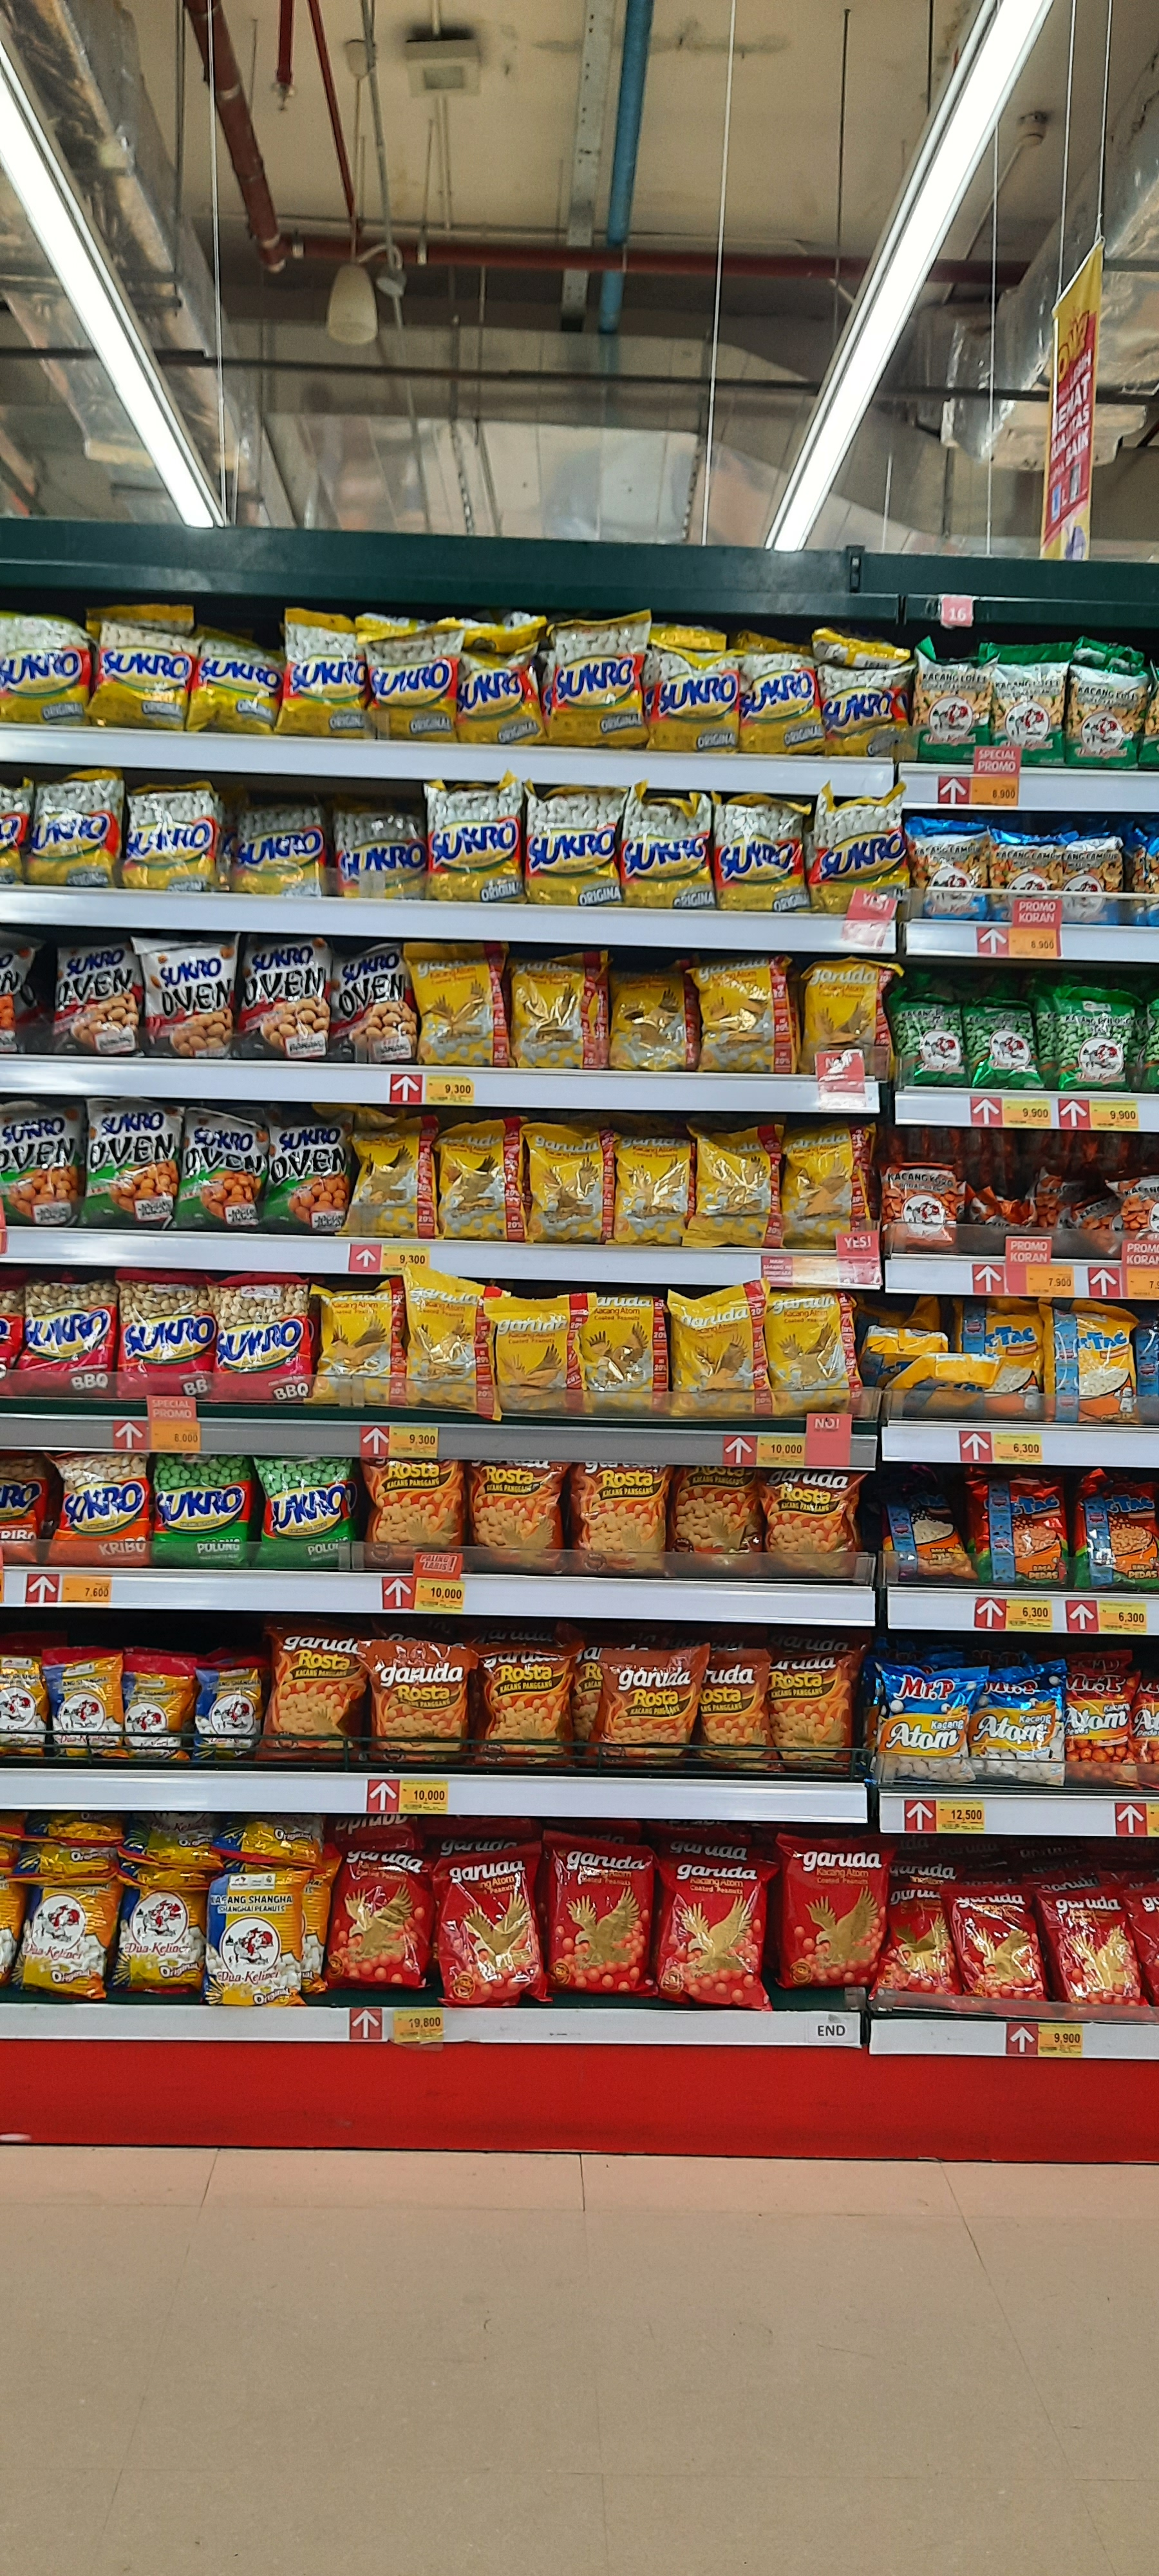90101111202100: (402, 1281, 506, 1416), (484, 1293, 594, 1416), (663, 1286, 765, 1416), (409, 943, 507, 1069), (781, 1124, 873, 1253), (696, 958, 798, 1074), (511, 950, 609, 1069), (312, 1281, 405, 1405), (768, 1293, 862, 1413), (346, 1117, 438, 1239), (529, 1122, 616, 1242), (438, 1122, 527, 1239), (581, 1296, 667, 1416), (612, 1135, 693, 1245)
90101111301100: (657, 1856, 773, 2009), (776, 1835, 891, 1988), (437, 1845, 540, 2008), (550, 1843, 657, 1998), (323, 1851, 435, 1989)
90101111302100: (952, 1888, 1041, 2012), (1051, 1891, 1138, 2017)
90101111615100: (261, 1626, 371, 1764), (471, 1644, 579, 1769), (369, 1641, 471, 1763), (470, 1460, 568, 1574), (573, 1462, 667, 1572), (768, 1470, 860, 1580), (773, 1646, 859, 1764), (366, 1459, 463, 1556)
DuaKelinciKacangCampur: (905, 820, 988, 922)
DuaKelinciKacangKoroPedas: (882, 1160, 959, 1253)
DuaKelinciKacangLofet: (914, 652, 993, 761), (1069, 665, 1146, 769)
DuaKelinciKacangPolongOriginalFlavor: (1054, 992, 1134, 1092), (890, 999, 965, 1086), (965, 1004, 1039, 1088)
DuaKelinciKacangShanghaiOriginal: (44, 1651, 123, 1756)
DuaKelinciKacangShanghaiOriginal225g: (208, 1873, 305, 2006), (11, 1883, 118, 2001), (108, 1888, 207, 1998)
DuaKelinciKacangSukroOriginal: (550, 611, 650, 749), (525, 785, 625, 910), (425, 780, 522, 904), (277, 614, 369, 739), (813, 793, 906, 915), (619, 789, 711, 909), (92, 621, 192, 731), (364, 628, 463, 739), (714, 798, 809, 912), (28, 777, 123, 889), (0, 613, 90, 724), (125, 782, 215, 892), (648, 651, 740, 751), (332, 802, 427, 897), (818, 665, 913, 757), (236, 805, 323, 895), (740, 654, 818, 752)
DuaKelinciSukroBBQ: (210, 1275, 310, 1405), (113, 1270, 215, 1396), (21, 1283, 120, 1398)
DuaKelinciSukroKribo: (53, 1452, 149, 1571)
DuaKelinciSukroOvenRasaBawang: (146, 941, 238, 1060), (241, 940, 330, 1061), (328, 945, 415, 1066), (57, 946, 140, 1056)
DuaKelinciSukroOvenRasaJagungBakar: (84, 1099, 182, 1232), (182, 1115, 269, 1232), (0, 1104, 80, 1226), (268, 1122, 350, 1234)
DuaKelinciSukroPolong: (156, 1452, 250, 1569), (258, 1457, 351, 1569)
DuaKelinciTicTacOriginal: (1038, 1299, 1139, 1424)
DuaKelinciTicTacRasaPedas: (969, 1464, 1069, 1592), (1075, 1472, 1159, 1592)
Mr.PKacangAtomOriginal: (872, 1661, 978, 1786), (969, 1661, 1067, 1786)
Mr.PKacangAtomPedas: (1067, 1669, 1141, 1791)
